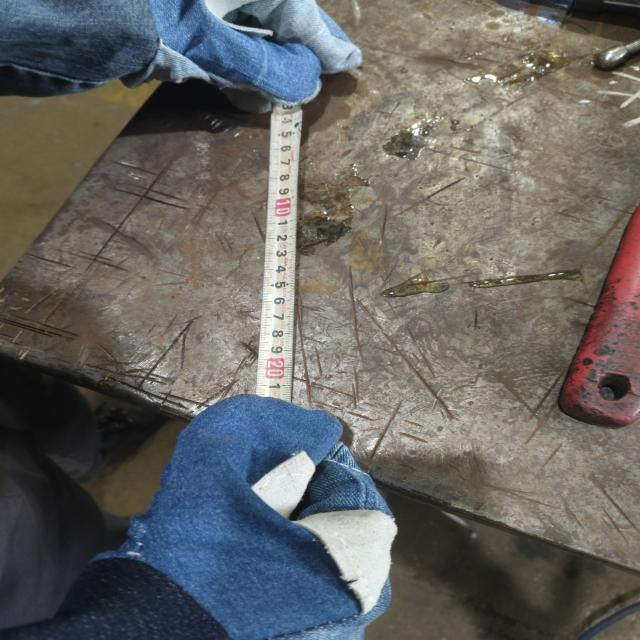Gloves-Detection: (103, 417, 427, 640), (0, 0, 367, 114)
